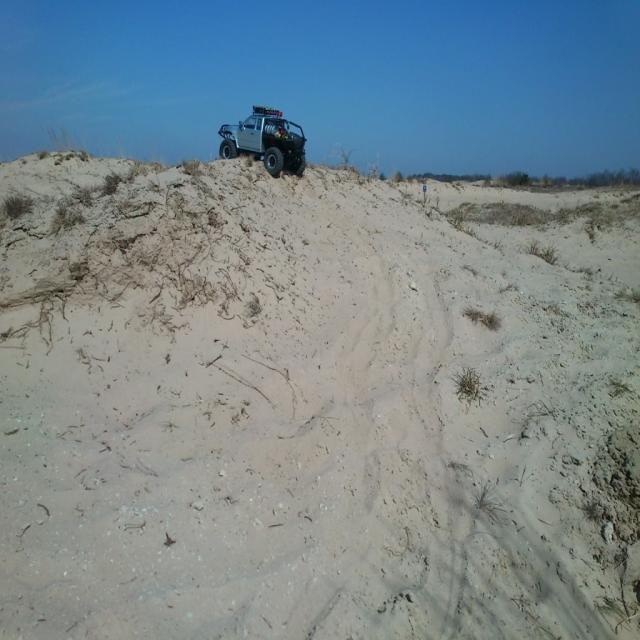car: (215, 99, 306, 173)
